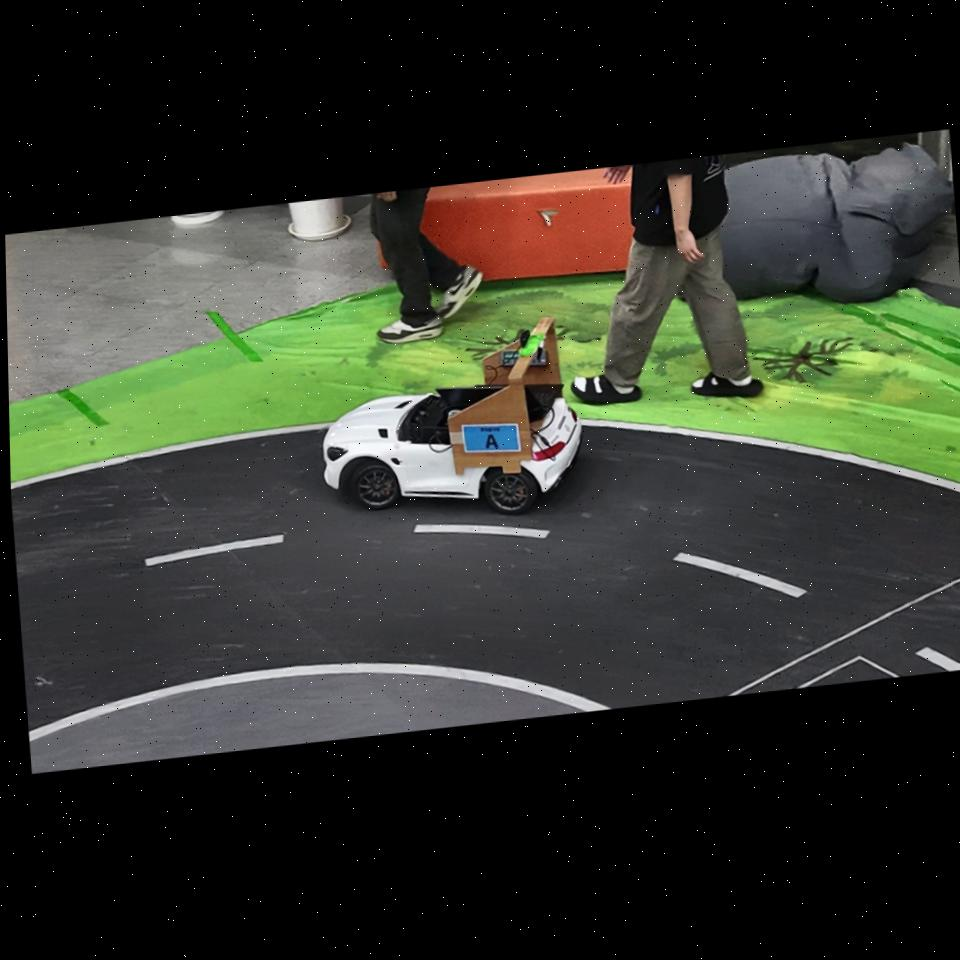broken_line: (674, 552, 806, 598), (144, 534, 284, 566), (414, 524, 549, 539), (915, 647, 960, 671)
